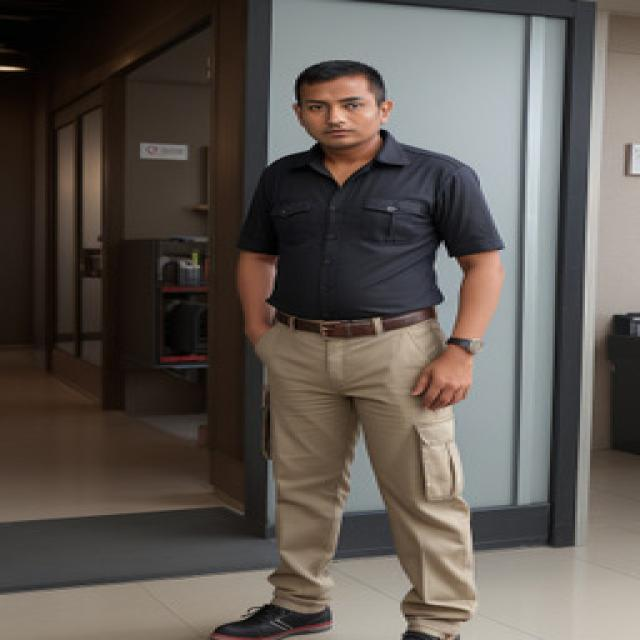Ai human 2: (223, 58, 522, 640)
